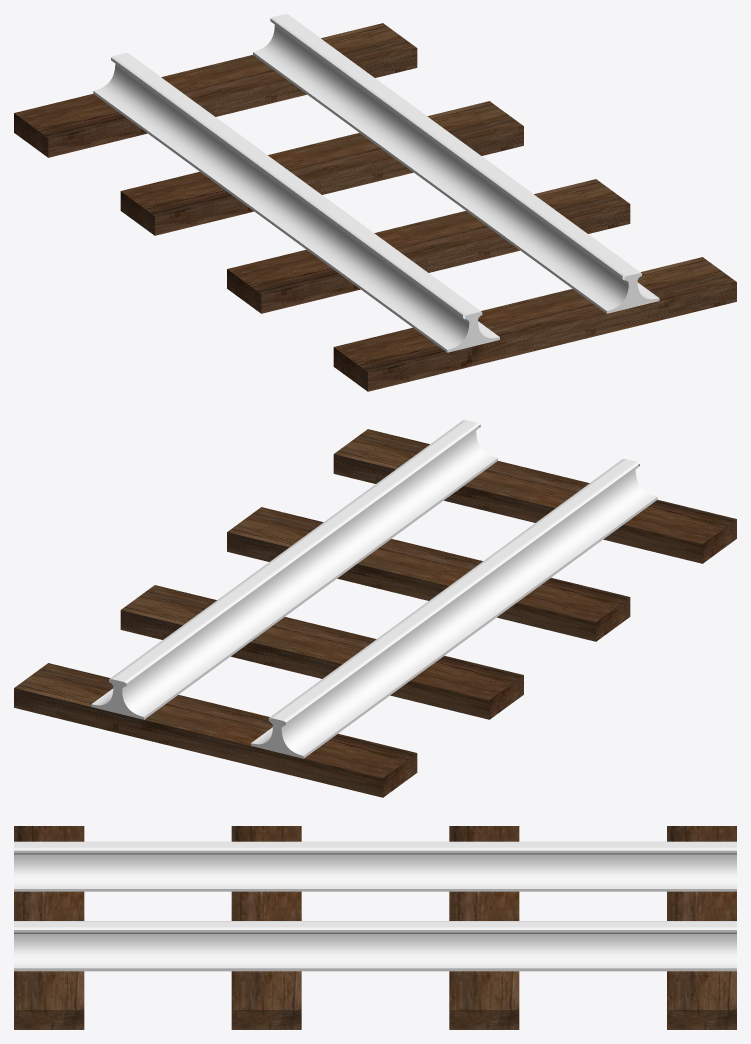
The model's file is РЕЛЬСыконечные.glb.
3 renders of one model, top to bottom at view 1: azimuth 30°, elevation 25°; view 2: azimuth 150°, elevation 25°; view 3: azimuth 270°, elevation 25°, orthographic. The views are drawn at different scales.
Parts seen in each view (by area): view 1: РЕЛЬСА, Шпала 1, Шпала 3, Шпала 2, Шпала 4; view 2: РЕЛЬСА, Шпала 4, Шпала 2, Шпала 1, Шпала 3; view 3: РЕЛЬСА, Шпала 2, Шпала 3, Шпала 1, Шпала 4.
Boxes of the visible parts, x1,y1,x2,y2 form: РЕЛЬСА: [93, 14, 659, 352]; Шпала 1: [333, 257, 736, 391]; Шпала 3: [120, 101, 523, 235]; Шпала 2: [227, 179, 630, 313]; Шпала 4: [14, 23, 417, 157]; РЕЛЬСА: [91, 420, 657, 758]; Шпала 4: [14, 663, 417, 797]; Шпала 2: [227, 507, 630, 641]; Шпала 1: [333, 429, 736, 563]; Шпала 3: [120, 585, 523, 719]; РЕЛЬСА: [14, 841, 736, 971]; Шпала 2: [231, 826, 301, 1029]; Шпала 3: [449, 826, 519, 1029]; Шпала 1: [14, 826, 84, 1029]; Шпала 4: [667, 826, 736, 1029].
Bounding box in the file's own units: 2 × 0.2721 × 3.32.
Materials: 2 (1 with a texture image).
